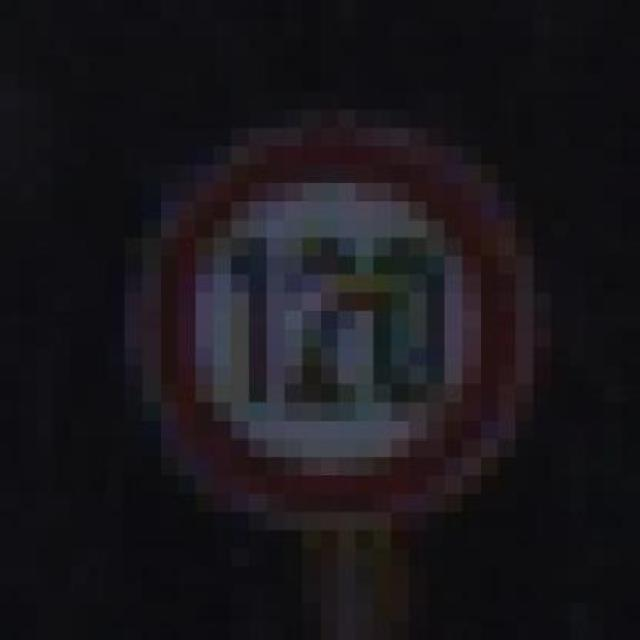forb_speed_over_120: (148, 138, 529, 521)
